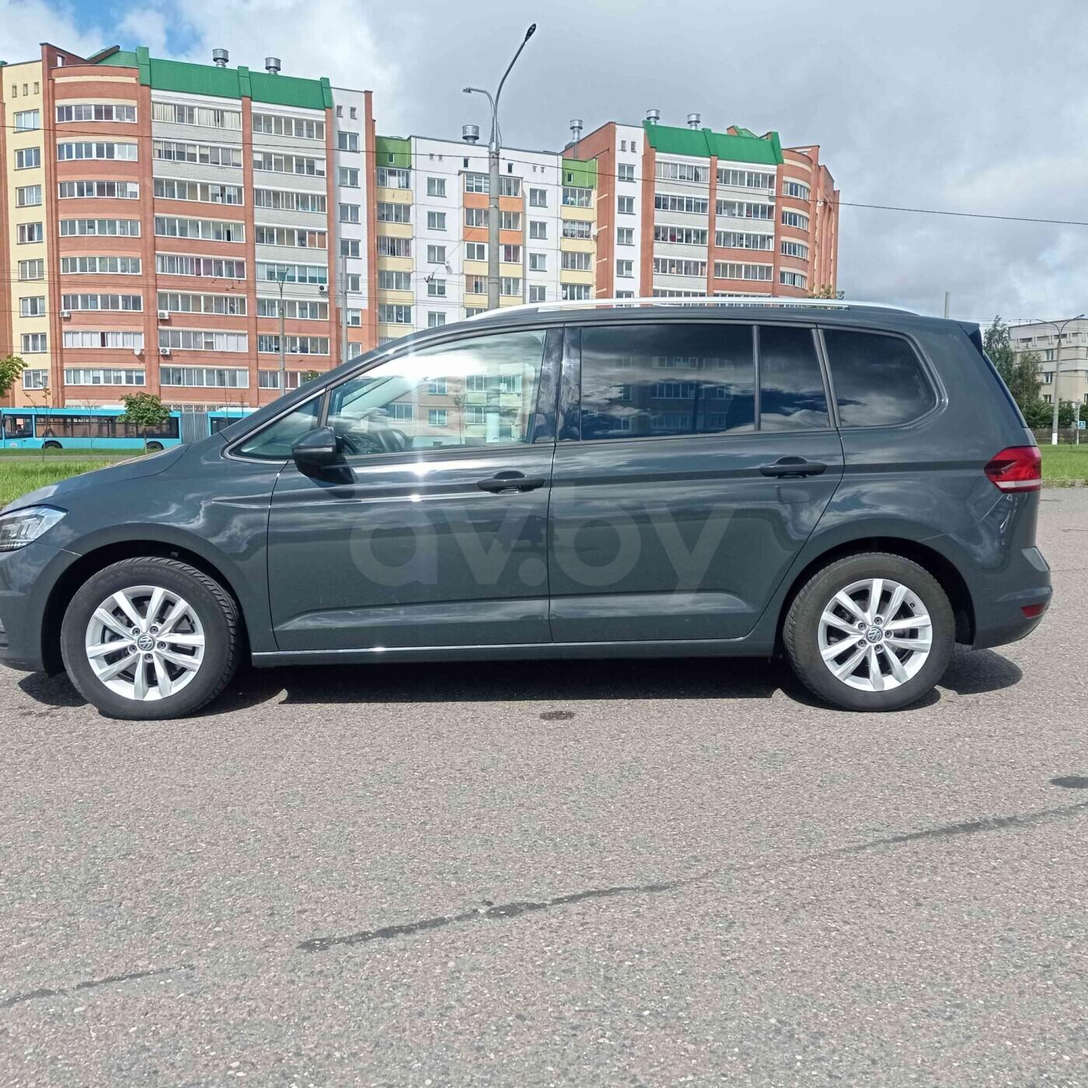Touran_2015: (0, 297, 1049, 724)
